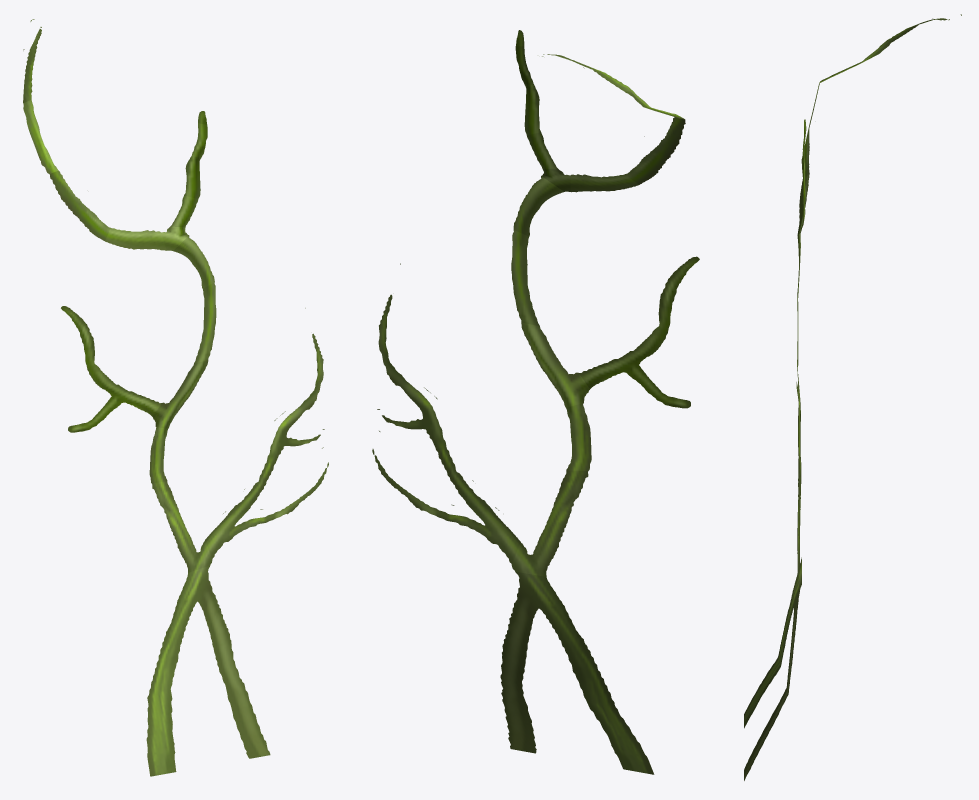
File: teng_01.FBX
3 views of the same model, side by side, from view 1: azimuth 30°, elevation 25°; view 2: azimuth 150°, elevation 25°; view 3: azimuth 270°, elevation 25° (orthographic). The views are drawn at different scales.
Parts seen in each view (by area): view 1: teng_01; view 2: teng_01; view 3: teng_01.
Boxes of the visible parts, box(x1,y1,x2,y2) form: teng_01: box(23, 19, 328, 776); teng_01: box(372, 30, 699, 774); teng_01: box(744, 14, 961, 780).
Size of the model in its own units: 300 by 690 by 197.
